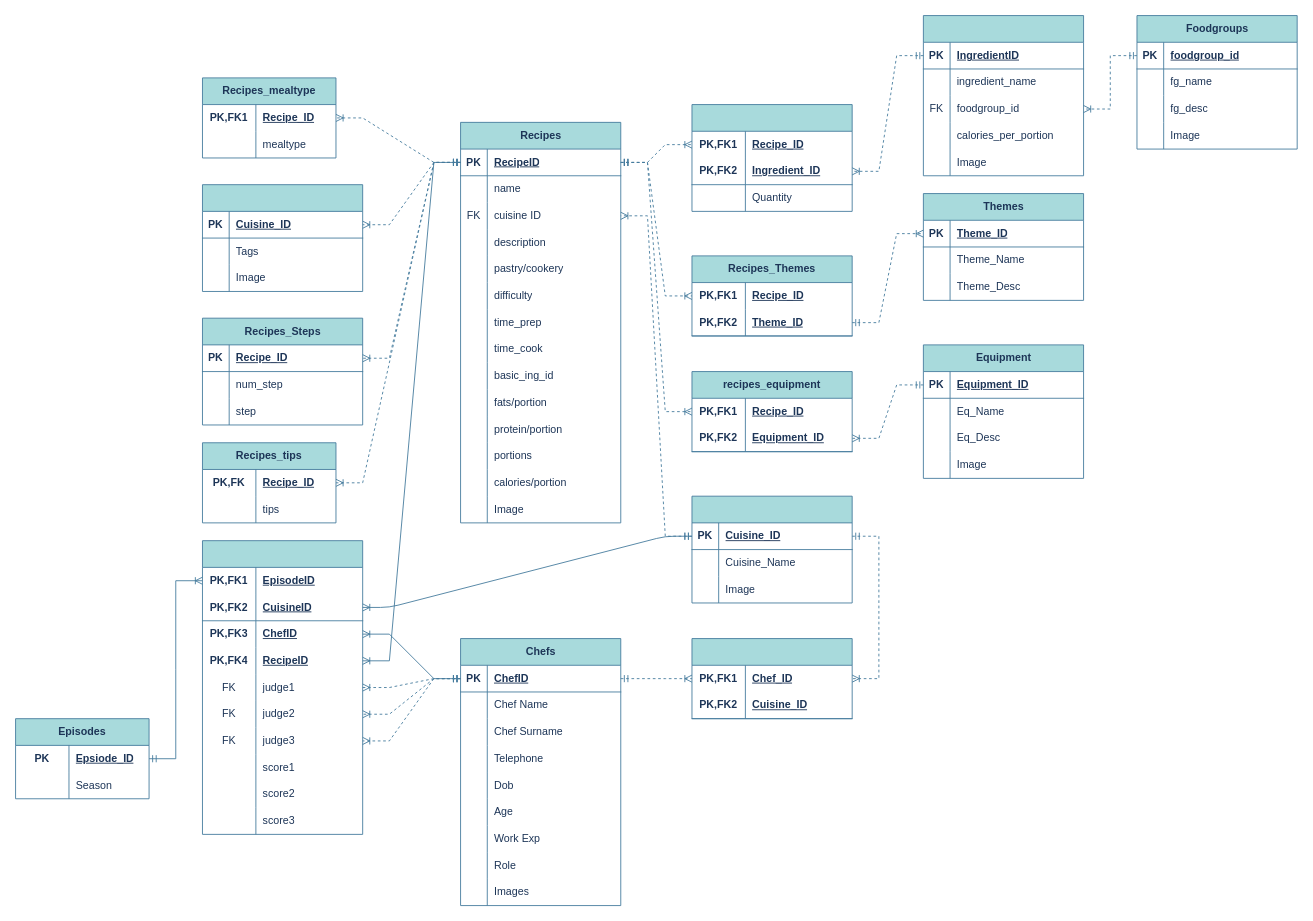
The diagram is 1313 pixels wide and 921 high, and some of its shapes have lost their labels. The box of each missing label's shape, as (x1, y1, x2, y2) in pixels:
Chefs_Cuisines: (691, 638, 852, 719)
Cuisines: (691, 495, 852, 603)
Episodedetails: (202, 540, 363, 834)
Ingredients: (922, 15, 1084, 176)
recipes_ingredients: (691, 104, 852, 211)
Recipes_Tags: (202, 184, 363, 291)
